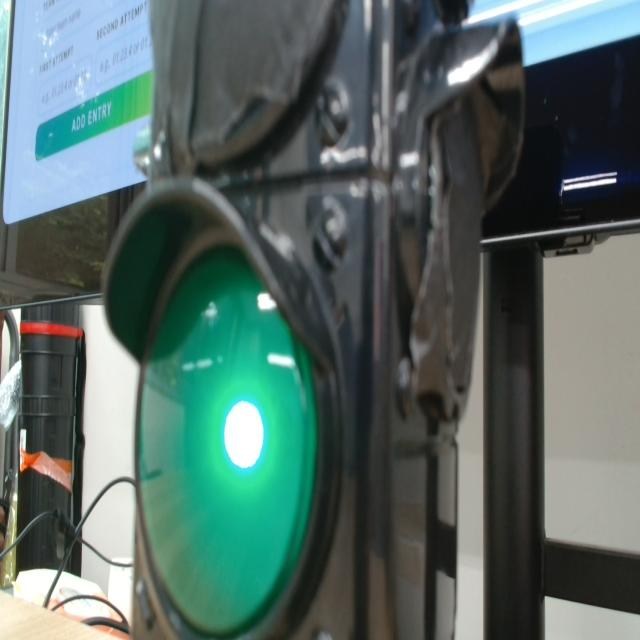green_light: (138, 248, 317, 637), (224, 401, 263, 468)
